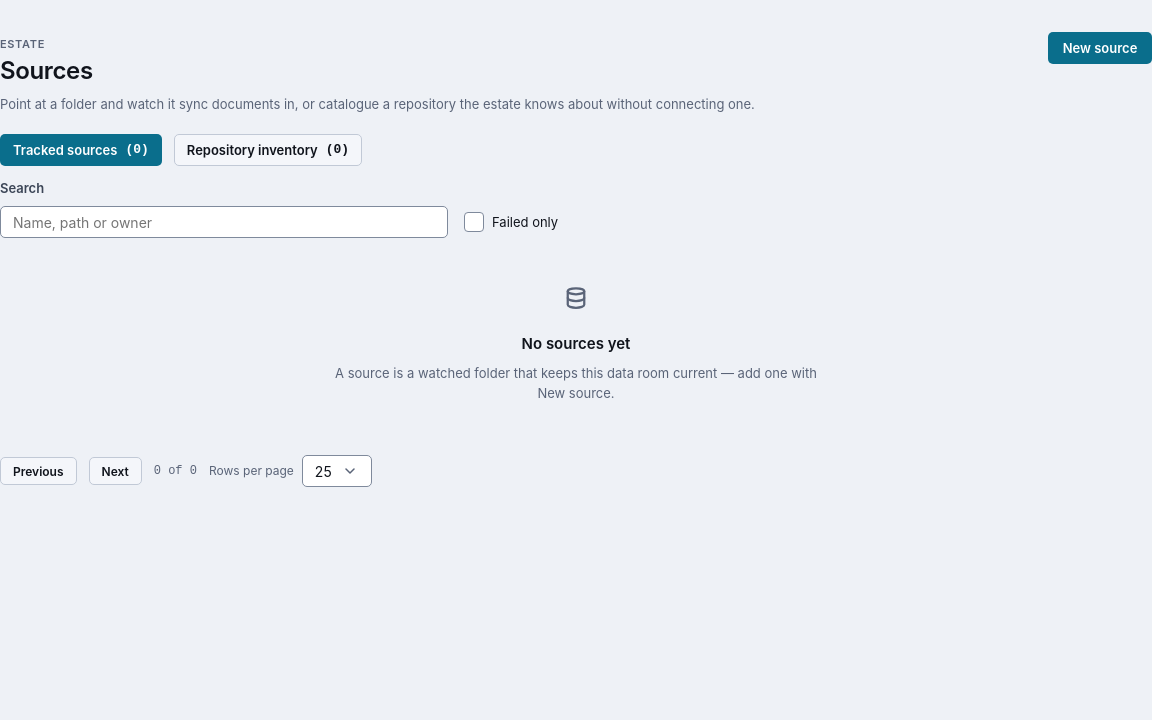
Scenario: SourcesPage › lists the three missing required fields in the error summary
Check: the text "No sources yet" is shown, box [522, 332, 630, 355]
Click the button "New source" at (1100, 48), box [1048, 32, 1151, 64]
(page scrolled)
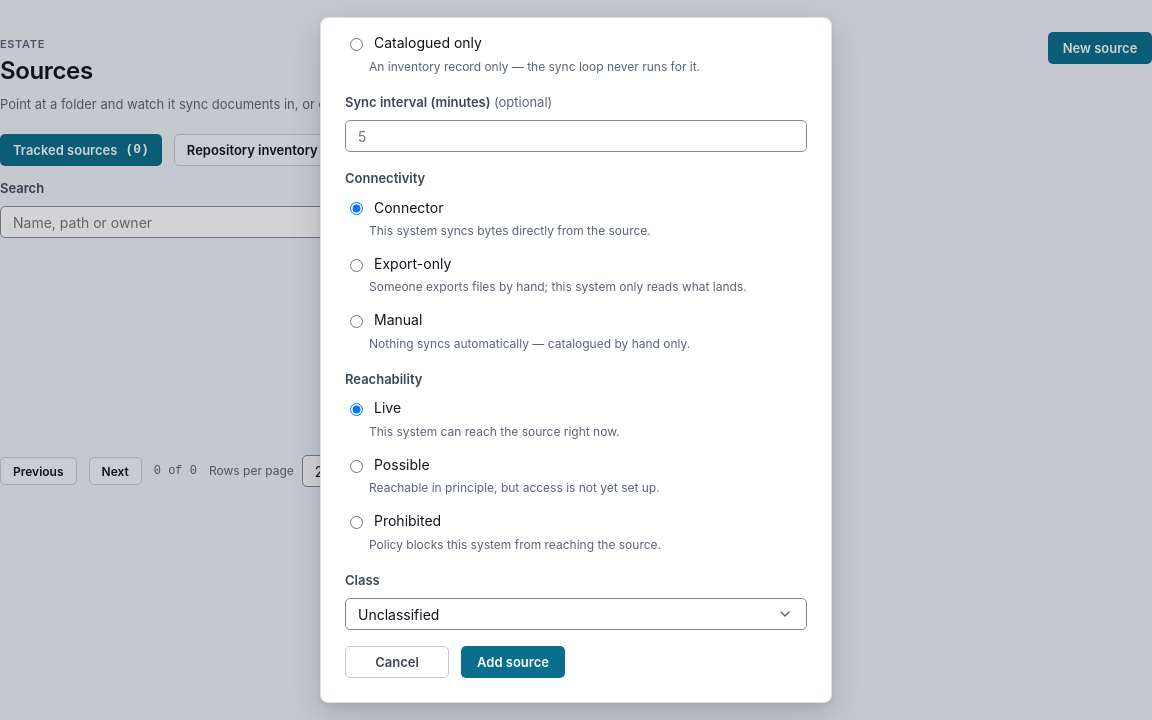
Click the button "Add source" at (513, 662), box [461, 646, 565, 678]
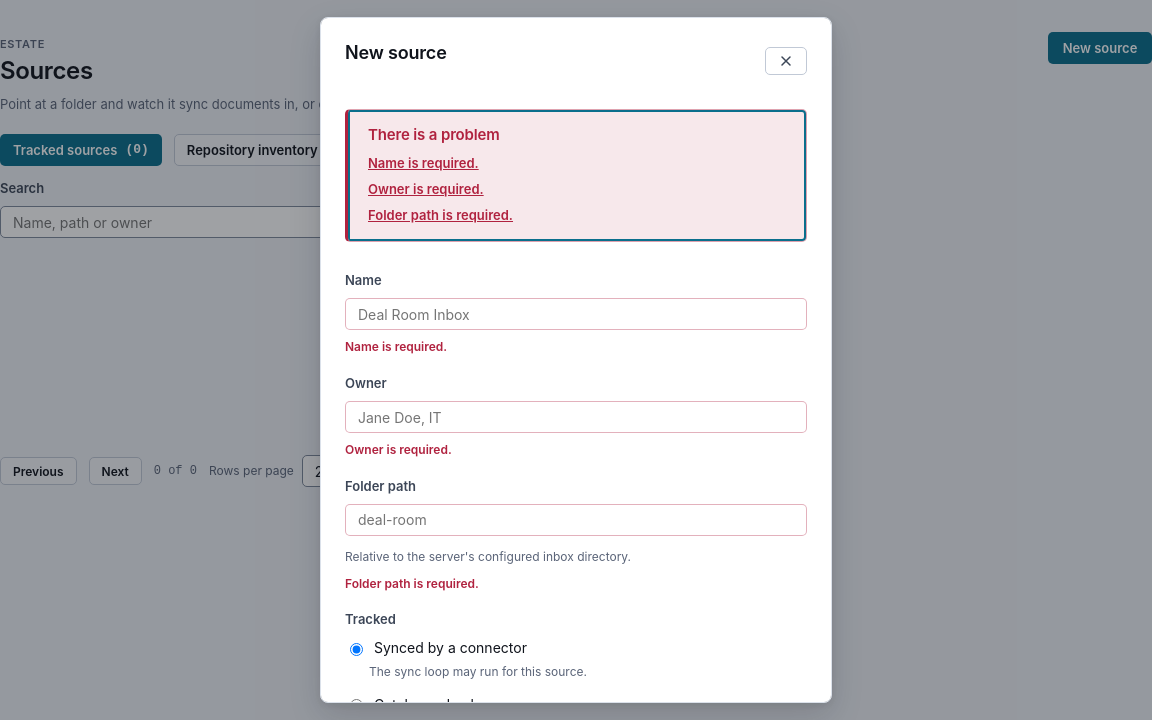
Check: the list with class "error-summary-list" is shown, box [368, 155, 513, 223]
Check: the number of links is 3, box [368, 155, 479, 171]; [368, 181, 484, 197]; [368, 207, 513, 223]
Check: the text "Name is required." is shown, box [344, 338, 447, 354]
